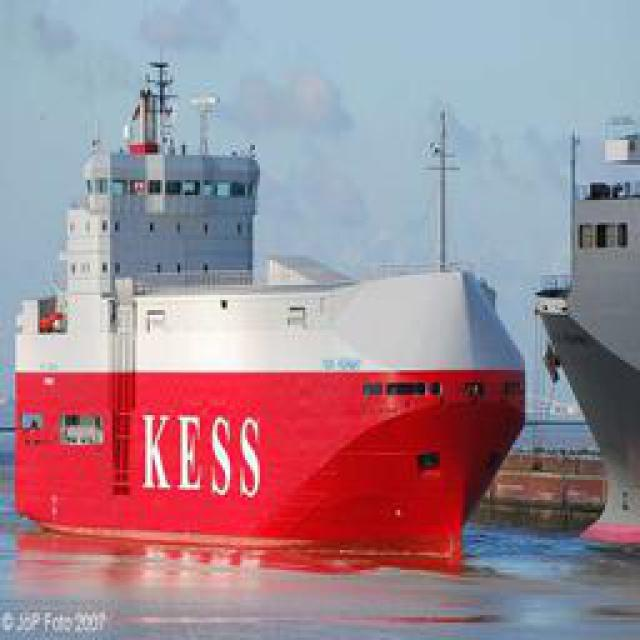Ship: (16, 54, 521, 557)
